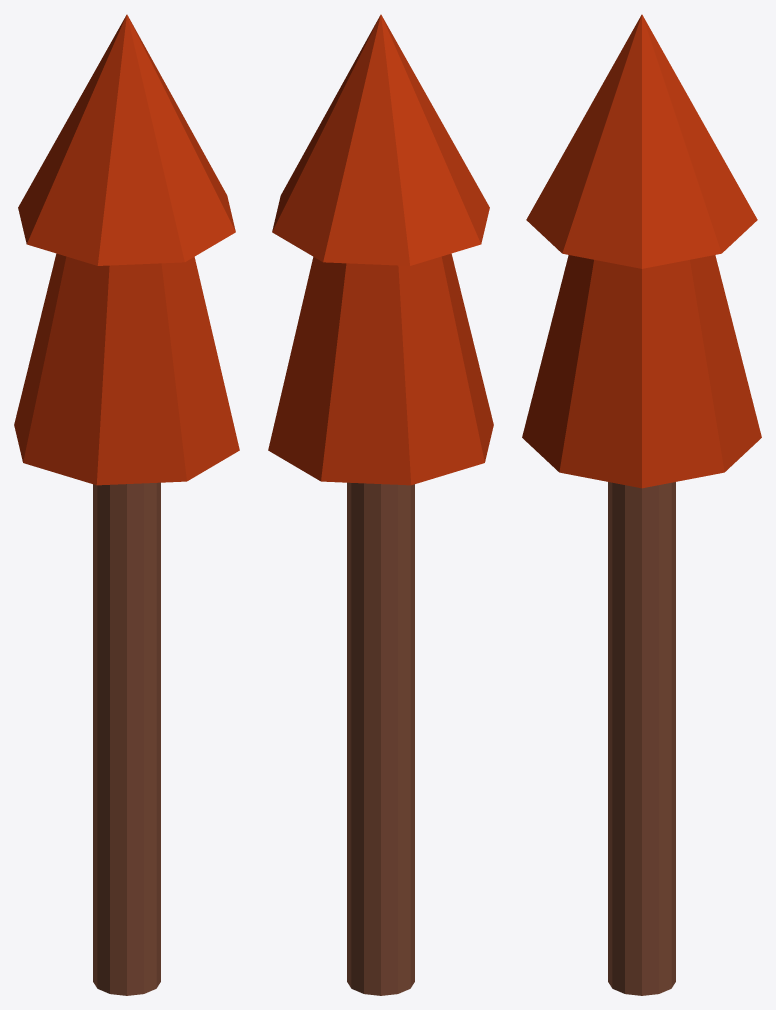
The model's file is Tree_21_summer_red_mat.fbx.
3 renders of one model, left to right at view 1: azimuth 30°, elevation 25°; view 2: azimuth 150°, elevation 25°; view 3: azimuth 270°, elevation 25°, orthographic.
Visible parts, largest first — view 1: Tree_21_summer_red_mat; view 2: Tree_21_summer_red_mat; view 3: Tree_21_summer_red_mat.
Boxes of the visible parts, x1=… form: Tree_21_summer_red_mat: x1=14, y1=14, x2=239, y2=995; Tree_21_summer_red_mat: x1=268, y1=14, x2=493, y2=995; Tree_21_summer_red_mat: x1=522, y1=14, x2=761, y2=995.
Size of the model in its own units: 77.92 by 347 by 77.92.
